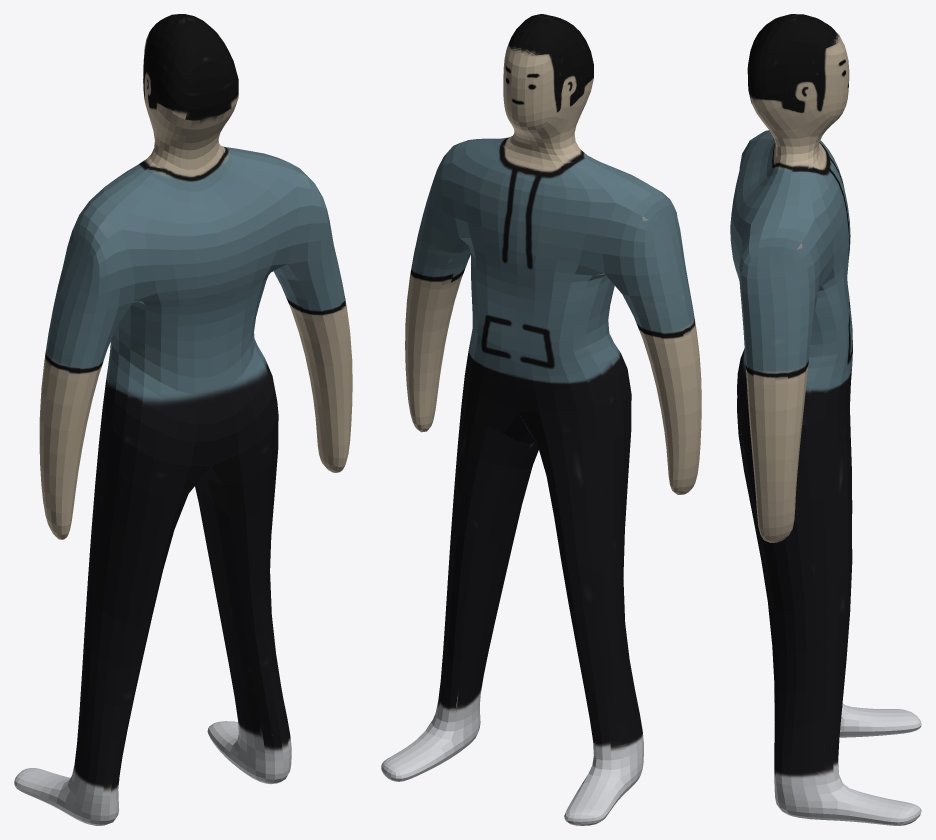
The model's file is exman.fbx.
3 renders of one model, left to right at view 1: azimuth 30°, elevation 25°; view 2: azimuth 150°, elevation 25°; view 3: azimuth 270°, elevation 25°, orthographic. The views are drawn at different scales.
Parts seen in each view (by area): view 1: Cube; view 2: Cube; view 3: Cube.
Boxes of the visible parts, box(x1,y1,x2,y2) form: Cube: box(14, 14, 352, 825); Cube: box(381, 14, 701, 825); Cube: box(730, 14, 921, 825).
Bounding box in the file's own units: 269 × 664 × 152.
